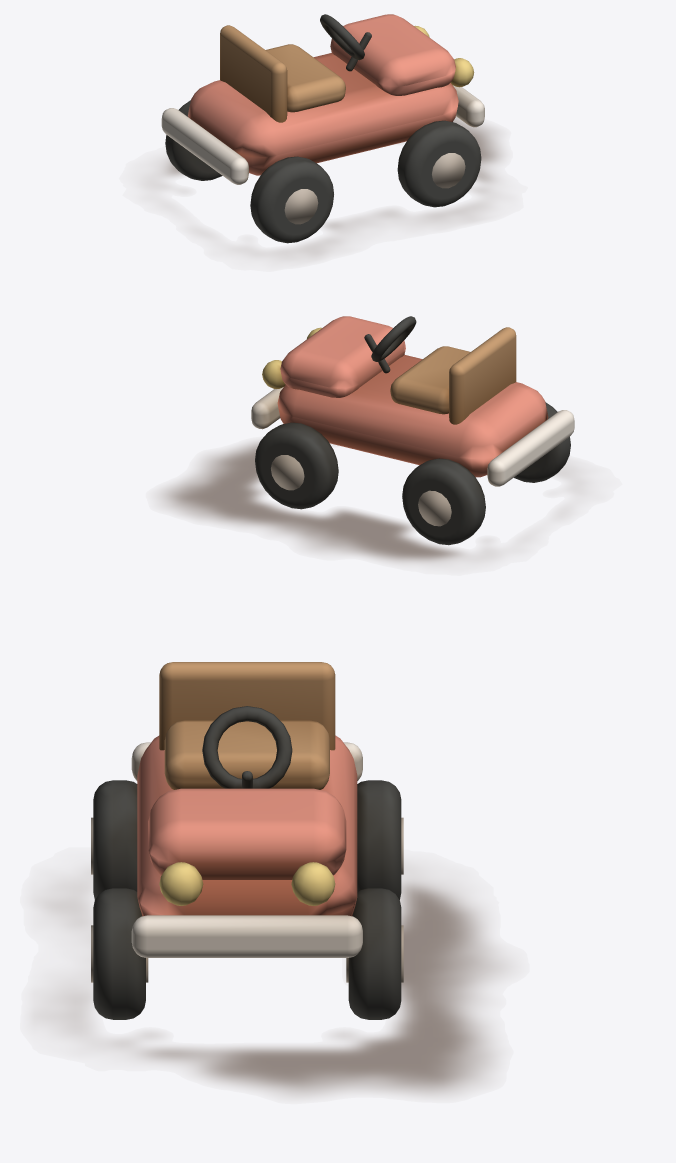
File: kart_coral.glb
3 views of the same model, one above another, from view 1: azimuth 30°, elevation 25°; view 2: azimuth 150°, elevation 25°; view 3: azimuth 270°, elevation 25° (orthographic). The views are drawn at different scales.
Parts seen in each view (by area): view 1: body, hood, tire1-1, tire-1-1, seatback, seat, bumper_b, baked_shadow, tire-11, hub1-1, hub-1-1, wheel_steer (+2 smaller); view 2: body, baked_shadow, hood, tire-11, tire11, seatback, seat, bumper_b, tire-1-1, hub-11, hub11, wheel_steer (+2 smaller); view 3: baked_shadow, hood, body, seatback, bumper_f, seat, tire11, tire1-1, tire-1-1, tire-11, wheel_steer, lamp-1 (+1 smaller).
Boxes of the visible parts, x1,y1,x2,y2 form: body: [188, 53, 458, 175]; hood: [330, 14, 455, 95]; tire1-1: [397, 120, 481, 207]; tire-1-1: [250, 156, 333, 243]; seatback: [220, 25, 287, 122]; seat: [266, 44, 345, 112]; bumper_b: [161, 108, 248, 184]; baked_shadow: [162, 117, 500, 255]; tire-11: [165, 100, 222, 180]; hub1-1: [432, 153, 465, 188]; hub-1-1: [284, 189, 318, 224]; wheel_steer: [320, 14, 364, 60]; body: [277, 355, 548, 477]; baked_shadow: [162, 442, 562, 562]; hood: [280, 316, 405, 397]; tire-11: [402, 458, 485, 545]; tire11: [255, 422, 338, 509]; seatback: [449, 327, 516, 424]; seat: [390, 346, 470, 414]; bumper_b: [487, 410, 574, 486]; tire-1-1: [514, 402, 570, 482]; hub-11: [418, 490, 451, 526]; hub11: [271, 455, 304, 490]; wheel_steer: [371, 316, 416, 361]; baked_shadow: [48, 880, 499, 1094]; hood: [148, 788, 346, 879]; body: [137, 735, 357, 916]; seatback: [159, 662, 335, 750]; bumper_f: [131, 915, 362, 957]; seat: [164, 720, 329, 789]; tire11: [348, 888, 401, 1019]; tire1-1: [93, 888, 145, 1019]; tire-1-1: [93, 780, 137, 899]; tire-11: [357, 780, 401, 899]; wheel_steer: [202, 706, 292, 788]; lamp-1: [159, 862, 203, 905].
Bounding box in the file's own units: 3.41 × 1.29 × 2.94.
Materials: 7 (1 with a texture image).
